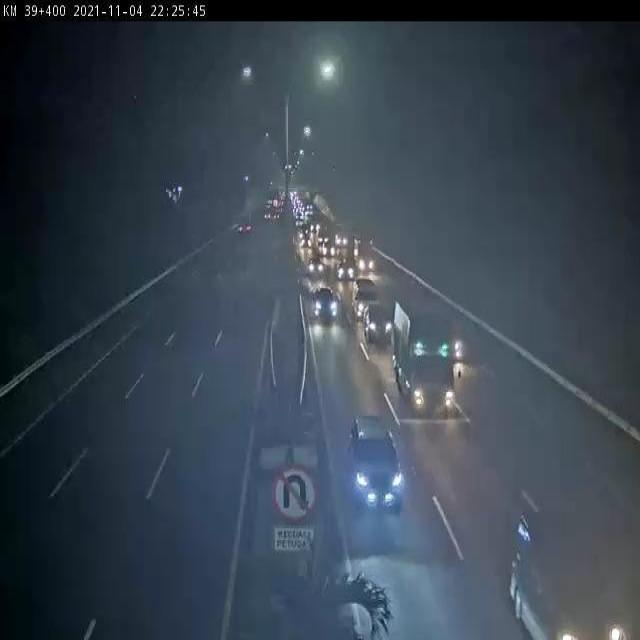Car: (343, 414, 408, 514), (352, 278, 381, 324), (363, 303, 392, 347), (312, 287, 338, 322), (306, 256, 326, 277), (336, 260, 355, 282)
Truck: (394, 298, 462, 420), (354, 233, 375, 274)
